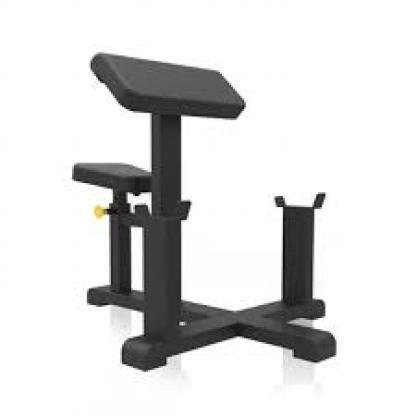arm curl machine: (70, 52, 338, 373)
